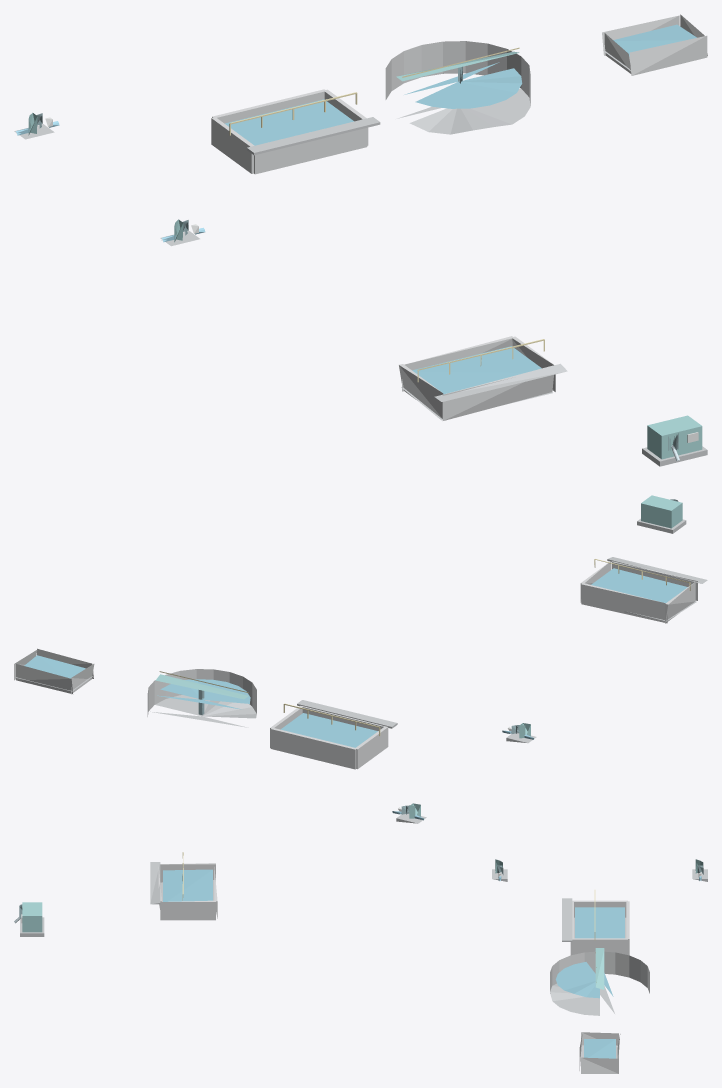
3 renders of one model, top to bottom at view 1: azimuth 30°, elevation 25°; view 2: azimuth 150°, elevation 25°; view 3: azimuth 270°, elevation 25°, orthographic. The views are drawn at different scales.
Visible parts, largest first — view 1: render-batch-6, render-batch-0, render-batch-4, render-batch-3, render-batch-8; view 2: render-batch-6, render-batch-0, render-batch-4, render-batch-3, render-batch-8; view 3: render-batch-6, render-batch-0, render-batch-4, render-batch-3.
Boxes of the visible parts, x1,y1,x2,y2 form: render-batch-6: (211,14,707,420); render-batch-0: (225,24,696,394); render-batch-4: (14,51,707,466); render-batch-3: (28,51,702,459); render-batch-8: (229,47,544,382); render-batch-6: (14,561,697,769); render-batch-0: (24,568,687,747); render-batch-4: (16,518,707,823); render-batch-3: (155,495,682,818); render-batch-8: (159,559,690,735); render-batch-6: (158,863,649,1073); render-batch-0: (163,869,624,1058); render-batch-4: (20,862,707,1058); render-batch-3: (22,859,703,989).
Size of the model in its own units: 43.07 by 2.99 by 62.33.
